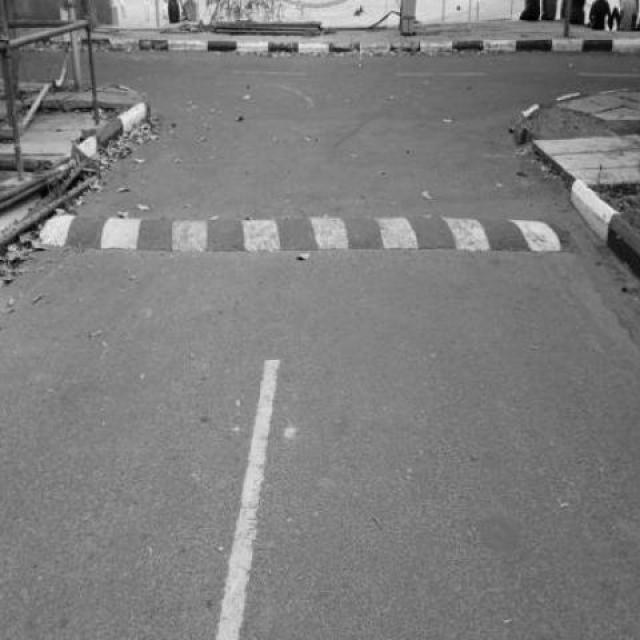Speed Bump: (38, 208, 573, 252)
